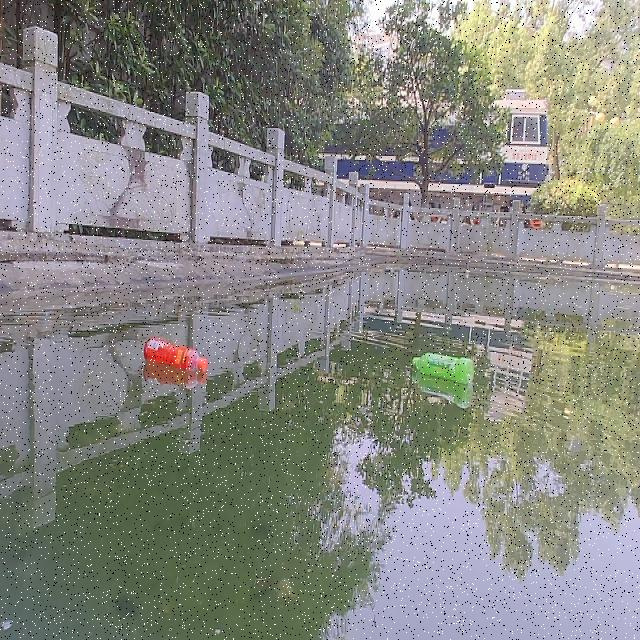Bottle: (143, 335, 208, 372), (409, 350, 474, 382)
